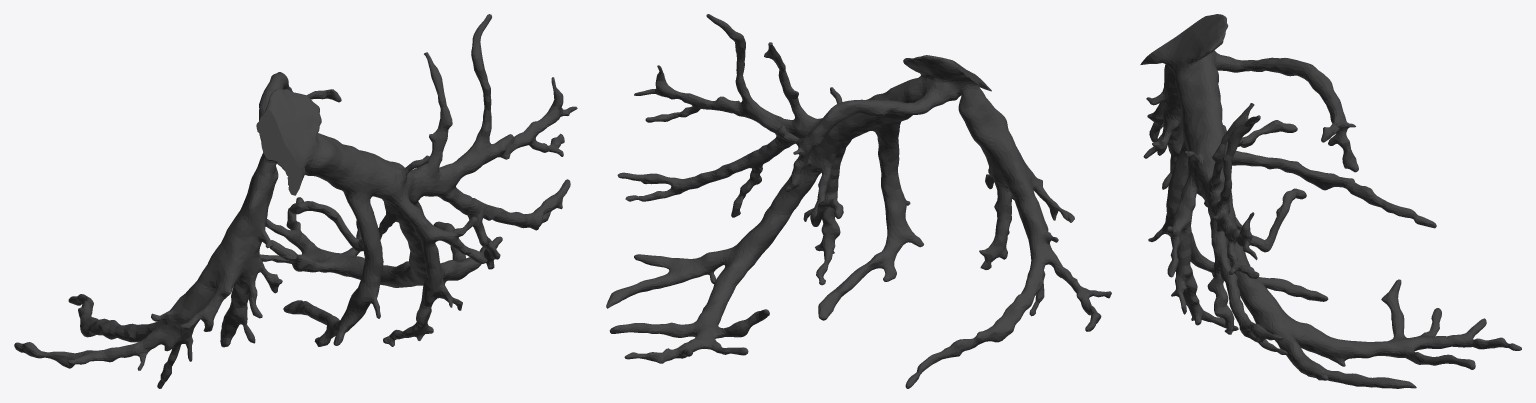
File: Hepatic_vvs_L.glb
3 views of the same model, side by side, from view 1: azimuth 30°, elevation 25°; view 2: azimuth 150°, elevation 25°; view 3: azimuth 270°, elevation 25° (orthographic). The views are drawn at different scales.
Visible parts, largest first — view 1: Hepatic_vvs_L; view 2: Hepatic_vvs_L; view 3: Hepatic_vvs_L.
Part boxes in pixels (bbox=[...]): Hepatic_vvs_L: bbox=[14, 14, 577, 388]; Hepatic_vvs_L: bbox=[606, 14, 1111, 388]; Hepatic_vvs_L: bbox=[1140, 14, 1521, 388].
Bounding box in the file's own units: 1.5 × 0.7739 × 0.9832.
1 material, 1 textured.
